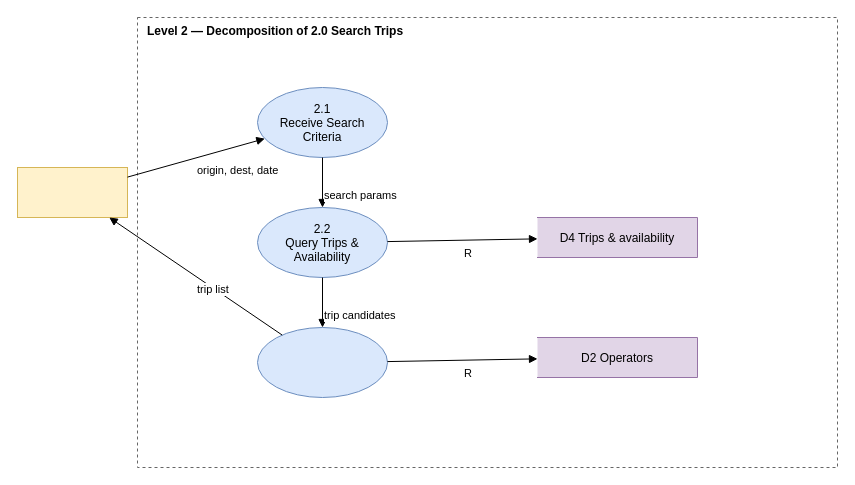
This 855x485 diagram has some shape labels left out. The centre of each missing label's shape, as x and y in pixels:
"2.3 Filter Active Operators" goes at (322,362).
"Passenger" goes at (72,192).
